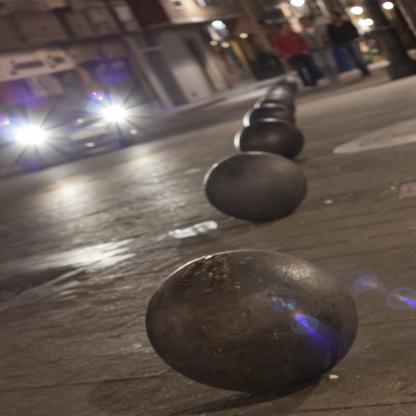Ball: (145, 251, 361, 396), (202, 153, 307, 220), (237, 76, 307, 165)
